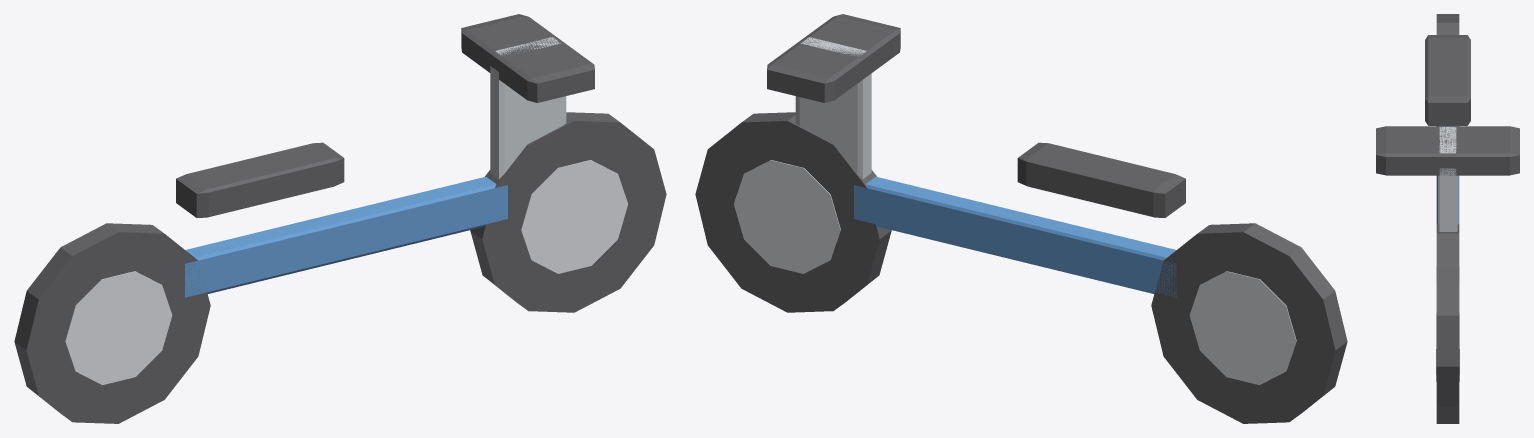
File: b03_two_rider_tandem_bicycle.glb
3 views of the same model, side by side, from view 1: azimuth 30°, elevation 25°; view 2: azimuth 150°, elevation 25°; view 3: azimuth 270°, elevation 25° (orthographic). The views are drawn at different scales.
Parts seen in each view (by area): view 1: b03_two_rider_tandem_bicycle; view 2: b03_two_rider_tandem_bicycle; view 3: b03_two_rider_tandem_bicycle.
Part boxes in pixels (<box>): b03_two_rider_tandem_bicycle: <box>14,14,666,423</box>; b03_two_rider_tandem_bicycle: <box>695,14,1347,423</box>; b03_two_rider_tandem_bicycle: <box>1376,14,1519,423</box>.
Size of the model in its own units: 2.77 by 1.12 by 0.57.
